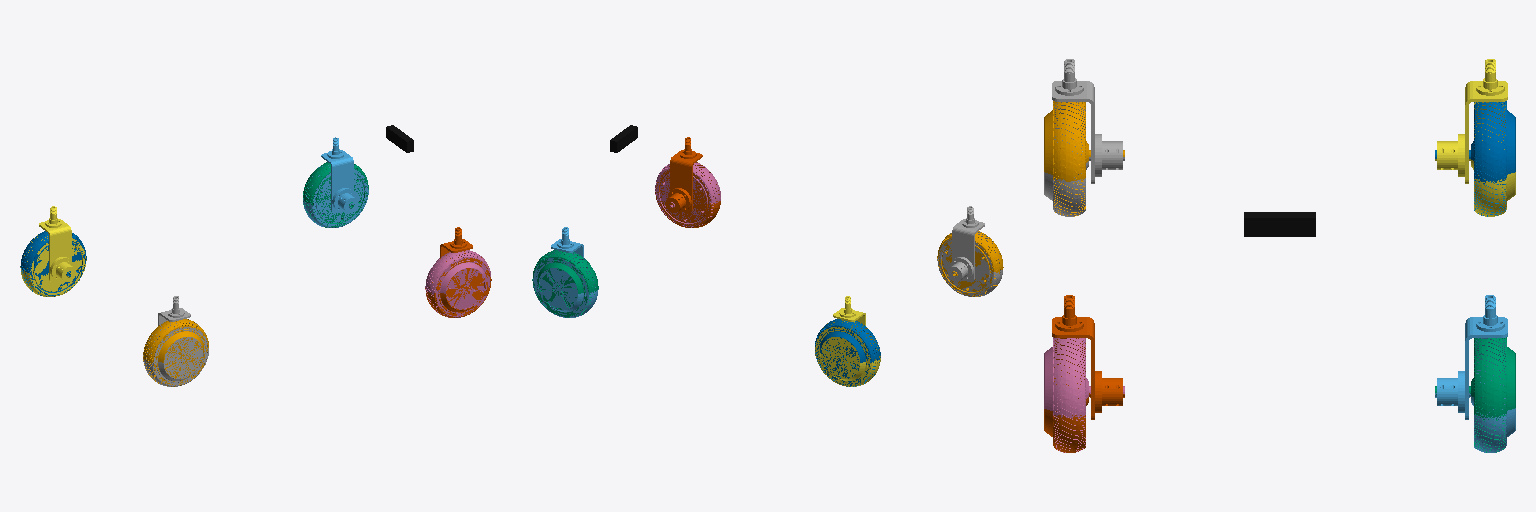
URDF robot description (new_rover):
<?xml version="1.0" encoding="utf-8"?>
<robot name="new_rover">

  <link name="base_link">
    <inertial>
      <origin xyz="0.00651 0 0.10801" rpy="0 0 0"/>
      <mass value="17.965"/>
      <inertia ixx="0.0928" ixy="0" ixz="0.00218" iyy="0.0718" iyz="0" izz="0.1320"/>
    </inertial>
    <visual>
      <origin xyz="0 0 0" rpy="0 0 0"/>
      <geometry>
        <mesh filename="package://webots_pkg_sim/meshes/base_link.STL"/>
      </geometry>
      <material name="gray"><color rgba="0.753 0.753 0.753 1"/></material>
    </visual>
    <collision>
      <geometry>
        <mesh filename="package://webots_pkg_sim/meshes/base_link.STL"/>
      </geometry>
    </collision>
  </link>

  <!-- STEERING 1 (front left) -->
  <link name="steering1_Link">
    <inertial>
      <mass value="0.5"/>
      <inertia ixx="0.01" ixy="0" ixz="0" iyy="0.01" iyz="0" izz="0.01"/>
    </inertial>
    <visual>
      <geometry>
        <mesh filename="package://webots_pkg_sim/meshes/steering1_Link.STL"/>
      </geometry>
    </visual>
  </link>
  <joint name="steering1_joint" type="revolute">
    <origin xyz="0.34672 0.2949 0.041107" rpy="0 0 0"/>
    <parent link="base_link"/>
    <child link="steering1_Link"/>
    <axis xyz="0 0 1"/>
    <limit lower="-1.57" upper="1.57" effort="10" velocity="1.0"/>
  </joint>

  <!-- WHEEL 1 (front left) -->
  <link name="wheel1_Link">
    <inertial>
      <mass value="1.0"/>
      <inertia ixx="0.02" ixy="0" ixz="0" iyy="0.02" iyz="0" izz="0.02"/>
    </inertial>
    <visual>
      <geometry>
        <mesh filename="package://webots_pkg_sim/meshes/wheel1_Link.STL"/>
      </geometry>
    </visual>
    <collision>
      <geometry>
        <mesh filename="package://webots_pkg_sim/meshes/wheel1_Link.STL"/>
      </geometry>
    </collision>
  </link>
  <joint name="wheel1_joint" type="continuous">
    <origin xyz="0.045 -0.0782 -0.153784" rpy="0 0 0"/>
    <parent link="steering1_Link"/>
    <child link="wheel1_Link"/>
    <axis xyz="0 1 0"/>
  </joint>

  <!-- STEERING 2 (front right) -->
  <link name="steering2_Link">
    <inertial>
      <mass value="0.5"/>
      <inertia ixx="0.01" ixy="0" ixz="0" iyy="0.01" iyz="0" izz="0.01"/>
    </inertial>
    <visual>
      <geometry>
        <mesh filename="package://webots_pkg_sim/meshes/steering2_Link.STL"/>
      </geometry>
    </visual>
  </link>
  <joint name="steering2_joint" type="revolute">
    <origin xyz="-0.34672 0.2949 0.041107" rpy="0 0 0"/>
    <parent link="base_link"/>
    <child link="steering2_Link"/>
    <axis xyz="0 0 1"/>
    <limit lower="-1.57" upper="1.57" effort="10" velocity="1.0"/>
  </joint>

  <!-- WHEEL 2 (front right) -->
  <link name="wheel2_Link">
    <inertial>
      <mass value="1.0"/>
      <inertia ixx="0.02" ixy="0" ixz="0" iyy="0.02" iyz="0" izz="0.02"/>
    </inertial>
    <visual>
      <geometry>
        <mesh filename="package://webots_pkg_sim/meshes/wheel2_Link.STL"/>
      </geometry>
    </visual>
    <collision>
      <geometry>
        <mesh filename="package://webots_pkg_sim/meshes/wheel2_Link.STL"/>
      </geometry>
    </collision>
  </link>
  <joint name="wheel2_joint" type="continuous">
    <origin xyz="-0.045 -0.0782 -0.153783" rpy="0 0 0"/>
    <parent link="steering2_Link"/>
    <child link="wheel2_Link"/>
    <axis xyz="0 1 0"/>
  </joint>

  <!-- STEERING 3 (rear left) -->
  <link name="steering3_Link">
    <inertial>
      <mass value="0.5"/>
      <inertia ixx="0.01" ixy="0" ixz="0" iyy="0.01" iyz="0" izz="0.01"/>
    </inertial>
    <visual>
      <geometry>
        <mesh filename="package://webots_pkg_sim/meshes/steering3_Link.STL"/>
      </geometry>
    </visual>
  </link>
  <joint name="steering3_joint" type="revolute">
    <origin xyz="0.34672 -0.2949 0.041107" rpy="0 0 0"/>
    <parent link="base_link"/>
    <child link="steering3_Link"/>
    <axis xyz="0 0 1"/>
    <limit lower="-1.57" upper="1.57" effort="10" velocity="1.0"/>
  </joint>

  <!-- WHEEL 3 (rear left) -->
  <link name="wheel3_Link">
    <inertial>
      <mass value="1.0"/>
      <inertia ixx="0.02" ixy="0" ixz="0" iyy="0.02" iyz="0" izz="0.02"/>
    </inertial>
    <visual>
      <geometry>
        <mesh filename="package://webots_pkg_sim/meshes/wheel3_Link.STL"/>
      </geometry>
    </visual>
    <collision>
      <geometry>
        <mesh filename="package://webots_pkg_sim/meshes/wheel3_Link.STL"/>
      </geometry>
    </collision>
  </link>
  <joint name="wheel3_joint" type="continuous">
    <origin xyz="0.045 0.0782 -0.153782" rpy="0 0 0"/>
    <parent link="steering3_Link"/>
    <child link="wheel3_Link"/>
    <axis xyz="0 -1 0"/>
  </joint>

  <!-- STEERING 4 (rear right) -->
  <link name="steering4_Link">
    <inertial>
      <mass value="0.5"/>
      <inertia ixx="0.01" ixy="0" ixz="0" iyy="0.01" iyz="0" izz="0.01"/>
    </inertial>
    <visual>
      <geometry>
        <mesh filename="package://webots_pkg_sim/meshes/steering4_Link.STL"/>
      </geometry>
    </visual>
  </link>
  <joint name="steering4_joint" type="revolute">
    <origin xyz="-0.34672 -0.2949 0.041107" rpy="0 0 0"/>
    <parent link="base_link"/>
    <child link="steering4_Link"/>
    <axis xyz="0 0 1"/>
    <limit lower="-1.57" upper="1.57" effort="10" velocity="1.0"/>
  </joint>

  <!-- WHEEL 4 (rear right) -->
  <link name="wheel4_Link">
    <inertial>
      <mass value="1.0"/>
      <inertia ixx="0.02" ixy="0" ixz="0" iyy="0.02" iyz="0" izz="0.02"/>
    </inertial>
    <visual>
      <geometry>
        <mesh filename="package://webots_pkg_sim/meshes/wheel4_Link.STL"/>
      </geometry>
    </visual>
    <collision>
      <geometry>
        <mesh filename="package://webots_pkg_sim/meshes/wheel4_Link.STL"/>
      </geometry>
    </collision>
  </link>
  <joint name="wheel4_joint" type="continuous">
    <origin xyz="-0.045 0.0782 -0.153782" rpy="0 0 0"/>
    <parent link="steering4_Link"/>
    <child link="wheel4_Link"/>
    <axis xyz="0 -1 0"/>
  </joint>

  <!-- OAK-D Camera -->
  <link name="oakd_link">
    <inertial>
      <mass value="0.1"/>
      <inertia ixx="0.0001" ixy="0" ixz="0" iyy="0.0001" iyz="0" izz="0.0001"/>
    </inertial>
    <visual>
      <geometry><box size="0.02 0.1 0.03"/></geometry>
      <material name="black"><color rgba="0.1 0.1 0.1 1"/></material>
    </visual>
  </link>
  <joint name="oakd_joint" type="fixed">
    <origin xyz="0.4 0 0.15" rpy="0 0 0"/>
    <parent link="base_link"/>
    <child link="oakd_link"/>
  </joint>

  <link name="oakd_optical_link"/>
  <joint name="oakd_optical_joint" type="fixed">
    <origin xyz="0 0 0" rpy="-1.5708 0 -1.5708"/>
    <parent link="oakd_link"/>
    <child link="oakd_optical_link"/>
  </joint>

  <!-- Webots plugin -->
  <webots>
    <plugin type="webots_pkg_sim.webots_localization.RoverDriver"/>
  </webots>

</robot>

--- Facts derived from the render (not from the file) ---
Views: 3 orthographic renders of the robot side by side, from view 1: azimuth 30°, elevation 25°; view 2: azimuth 150°, elevation 25°; view 3: azimuth 270°, elevation 25°.
Robot: new_rover — 11 links, 10 joints (4 revolute, 4 continuous, 2 fixed); root link base_link; default pose: every joint at zero.
Links seen in each view (by area): view 1: steering1_Link, steering2_Link, wheel3_Link, steering4_Link, steering3_Link, wheel4_Link, wheel2_Link, wheel1_Link; view 2: steering4_Link, steering3_Link, steering2_Link, steering1_Link, wheel1_Link, wheel2_Link, wheel3_Link, wheel4_Link; view 3: steering4_Link, steering1_Link, steering2_Link, steering3_Link, wheel2_Link, wheel3_Link, wheel4_Link, wheel1_Link, oakd_link.
Boxes of the visible links, x1,y1,x2,y2 form: steering1_Link: (303,137,368,227); steering2_Link: (20,206,86,296); wheel3_Link: (425,250,490,317); steering4_Link: (143,296,208,386); steering3_Link: (425,227,491,317); wheel4_Link: (143,319,208,386); wheel2_Link: (20,231,86,296); wheel1_Link: (303,162,368,227); steering4_Link: (937,206,1002,296); steering3_Link: (655,137,720,227); steering2_Link: (815,296,880,386); steering1_Link: (533,227,598,317); wheel1_Link: (532,250,598,317); wheel2_Link: (815,319,880,386); wheel3_Link: (655,162,720,227); wheel4_Link: (937,231,1003,296); steering4_Link: (1044,59,1124,216); steering1_Link: (1435,295,1515,452); steering2_Link: (1435,59,1515,216); steering3_Link: (1044,295,1124,452); wheel2_Link: (1435,101,1515,216); wheel3_Link: (1044,337,1124,452); wheel4_Link: (1044,101,1124,216); wheel1_Link: (1435,337,1515,452); oakd_link: (1244,212,1315,236).
Size in the robot's own frame: 0.9554 by 0.6602 by 0.3636 metres.
8 mesh visuals loaded from 9 distinct referenced files (8 binary STL); not drawn: 1 (reference not matched to a file when rendering).
